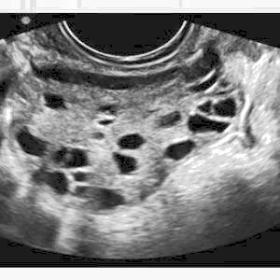PCOS: (31, 166, 72, 196), (14, 128, 51, 156), (188, 110, 229, 135), (164, 138, 198, 163), (39, 89, 71, 114), (91, 187, 122, 212), (212, 95, 239, 120), (112, 152, 140, 174), (68, 145, 88, 172), (116, 133, 145, 150), (157, 111, 185, 128), (96, 102, 121, 116), (51, 145, 69, 164), (95, 117, 121, 130), (196, 97, 213, 116), (72, 168, 90, 184)
